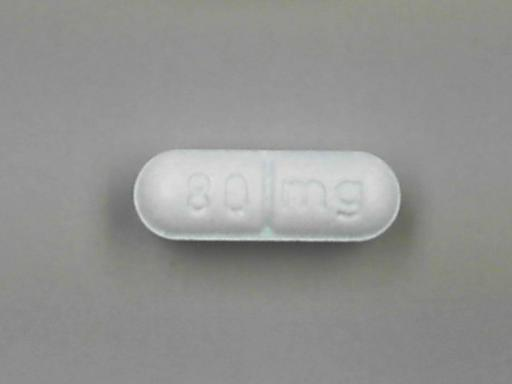Pill: (130, 144, 404, 246)
